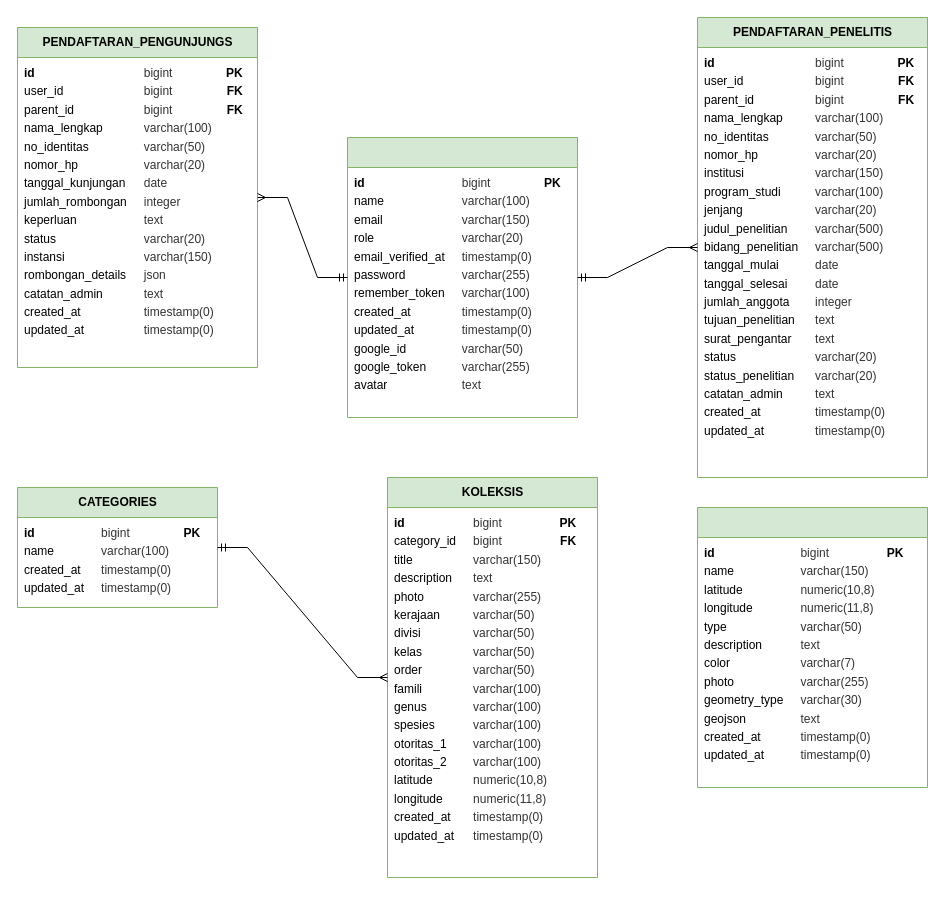
This 945x898 diagram has some shape labels left out. The shapes that lost their labels are listed below. From the top down, each one's box as (x1, y1, x2, y2) in pixels, then its label:
(346, 136, 578, 418): USERS
(696, 506, 928, 788): MAP_MARKERS
